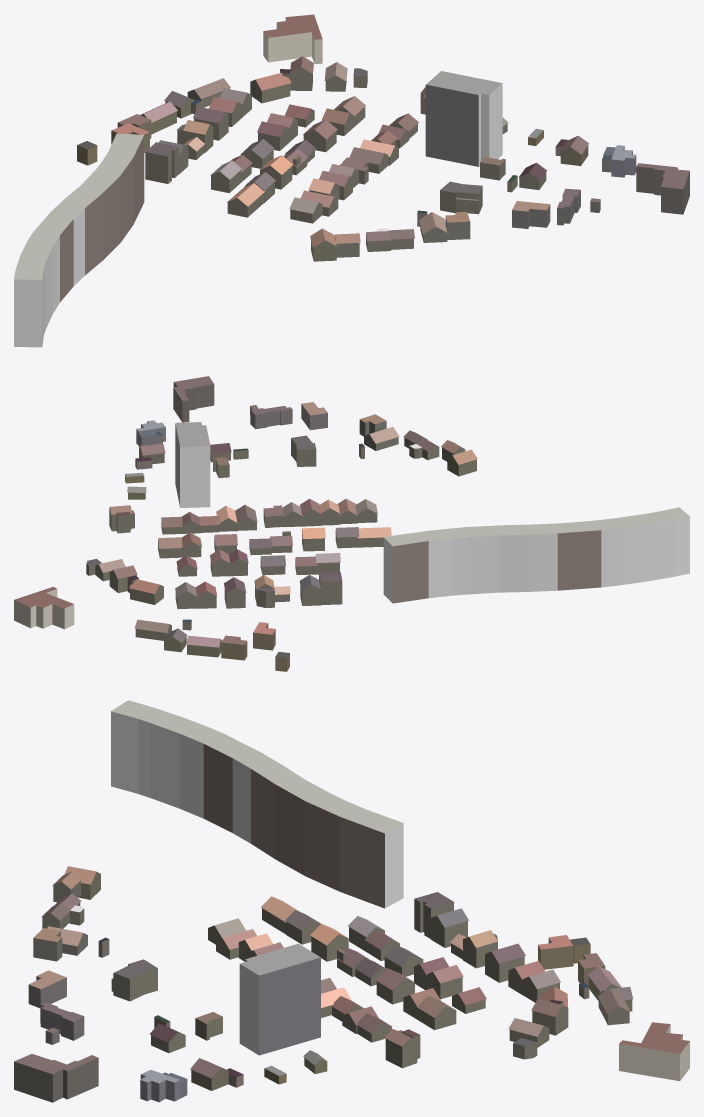
3 renders of one model, top to bottom at view 1: azimuth 30°, elevation 25°; view 2: azimuth 150°, elevation 25°; view 3: azimuth 270°, elevation 25°, orthographic. The views are drawn at different scales.
Visible parts, largest first — view 1: tuile; view 2: tuile; view 3: tuile.
Boxes of the visible parts, box(x1,y1,x2,y2) form: tuile: box(14, 14, 689, 347); tuile: box(14, 376, 689, 671); tuile: box(14, 700, 689, 1102).
Bounding box in the file's own units: 301 × 52.78 × 247.
